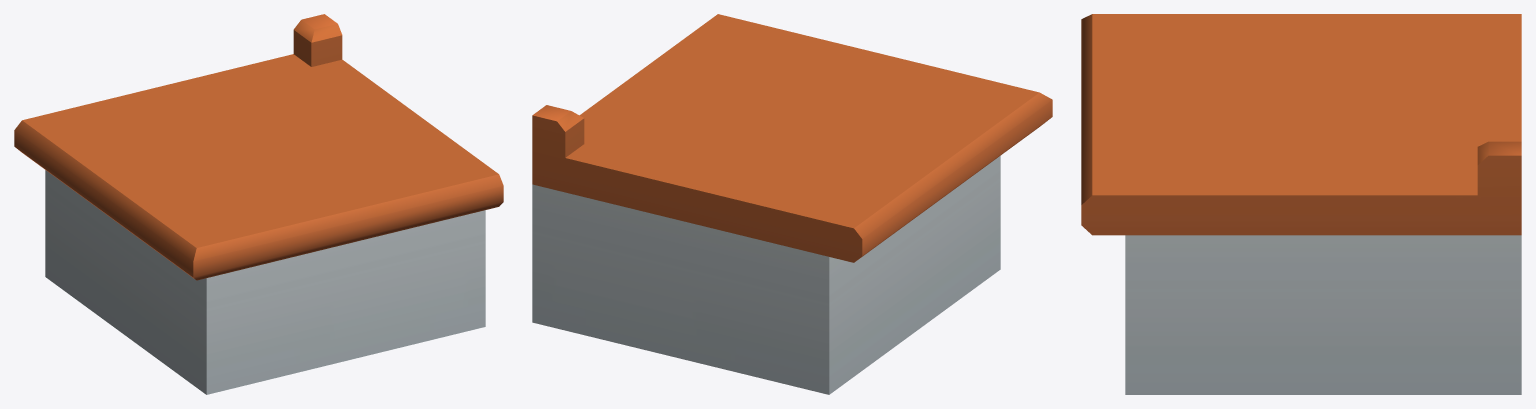
The model's file is kaykit-restaurant-bits-kitchencounter-outercorner-backsplash.glb.
3 views of the same model, side by side, from view 1: azimuth 30°, elevation 25°; view 2: azimuth 150°, elevation 25°; view 3: azimuth 270°, elevation 25° (orthographic). The views are drawn at different scales.
Visible parts, largest first — view 1: kitchencounter_outercorner_backsplash; view 2: kitchencounter_outercorner_backsplash; view 3: kitchencounter_outercorner_backsplash.
Boxes of the visible parts, x1=… form: kitchencounter_outercorner_backsplash: x1=14, y1=14, x2=503, y2=394; kitchencounter_outercorner_backsplash: x1=532, y1=14, x2=1052, y2=394; kitchencounter_outercorner_backsplash: x1=1081, y1=14, x2=1521, y2=394.
Bounding box in the file's own units: 2 × 1.2 × 2.
Materials: 1 (1 with a texture image).
